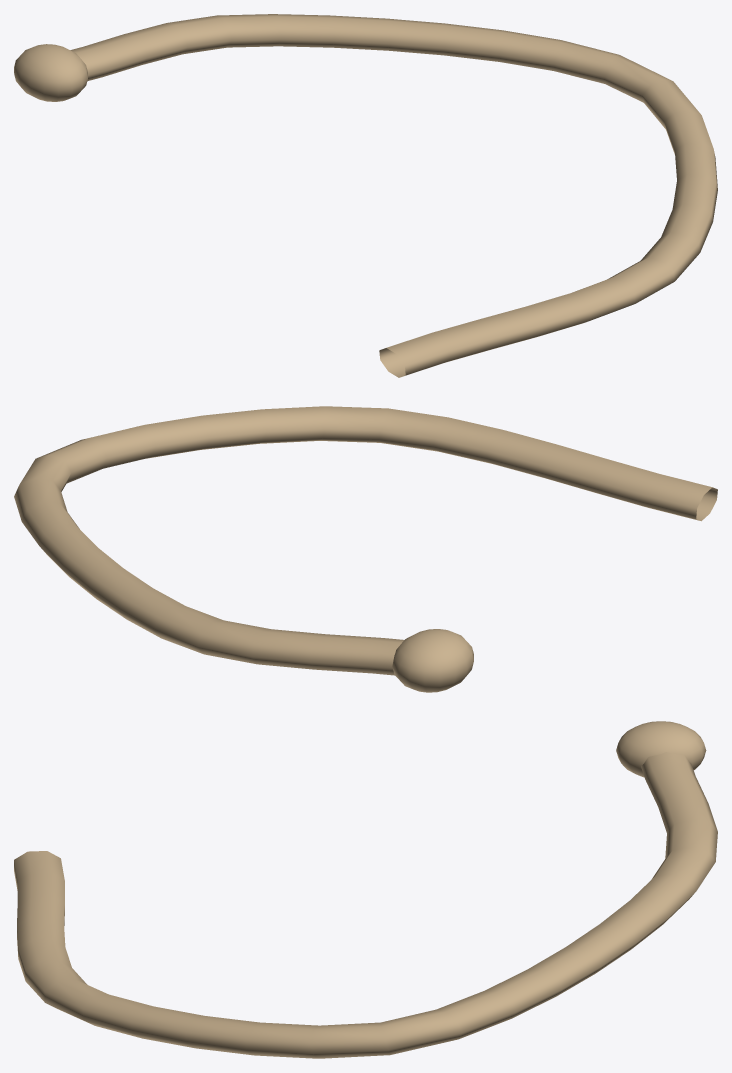
Rendered from left_rib_3.glb.
3 views of the same model, one above another, from view 1: azimuth 30°, elevation 25°; view 2: azimuth 150°, elevation 25°; view 3: azimuth 270°, elevation 25° (orthographic). The views are drawn at different scales.
Visible parts, largest first — view 1: left_rib_3:costal-body, left_rib_3:head; view 2: left_rib_3:costal-body, left_rib_3:head; view 3: left_rib_3:costal-body, left_rib_3:head.
Boxes of the visible parts, box(x1,y1,x2,y2) form: left_rib_3:costal-body: box(70, 14, 717, 377); left_rib_3:head: box(14, 44, 87, 101); left_rib_3:costal-body: box(14, 406, 717, 675); left_rib_3:head: box(392, 629, 473, 692); left_rib_3:costal-body: box(14, 752, 717, 1058); left_rib_3:head: box(616, 721, 706, 777).
Size of the model in its own units: 0.7872 by 0.1728 by 0.864.
